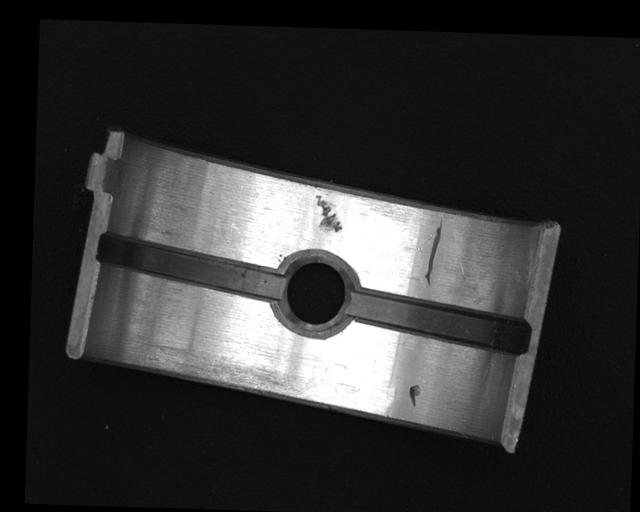bruise: (311, 194, 344, 234), (408, 383, 421, 408)
gap: (95, 234, 286, 302), (347, 291, 530, 353)
hole: (274, 254, 357, 340)
nick: (425, 217, 443, 287)
scratch: (148, 343, 308, 399)
